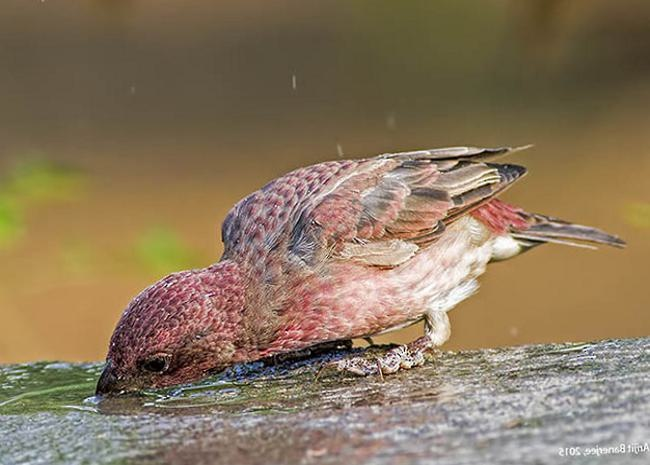rosefinch: (56, 134, 605, 413)
